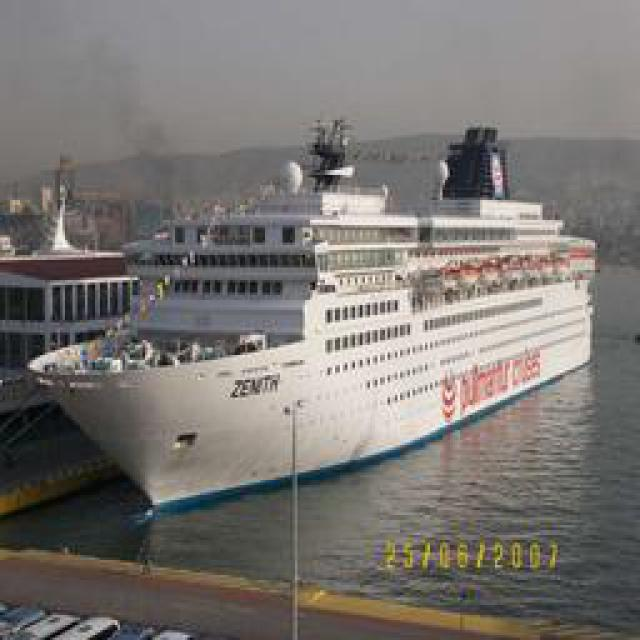Ship: (21, 128, 619, 536)
